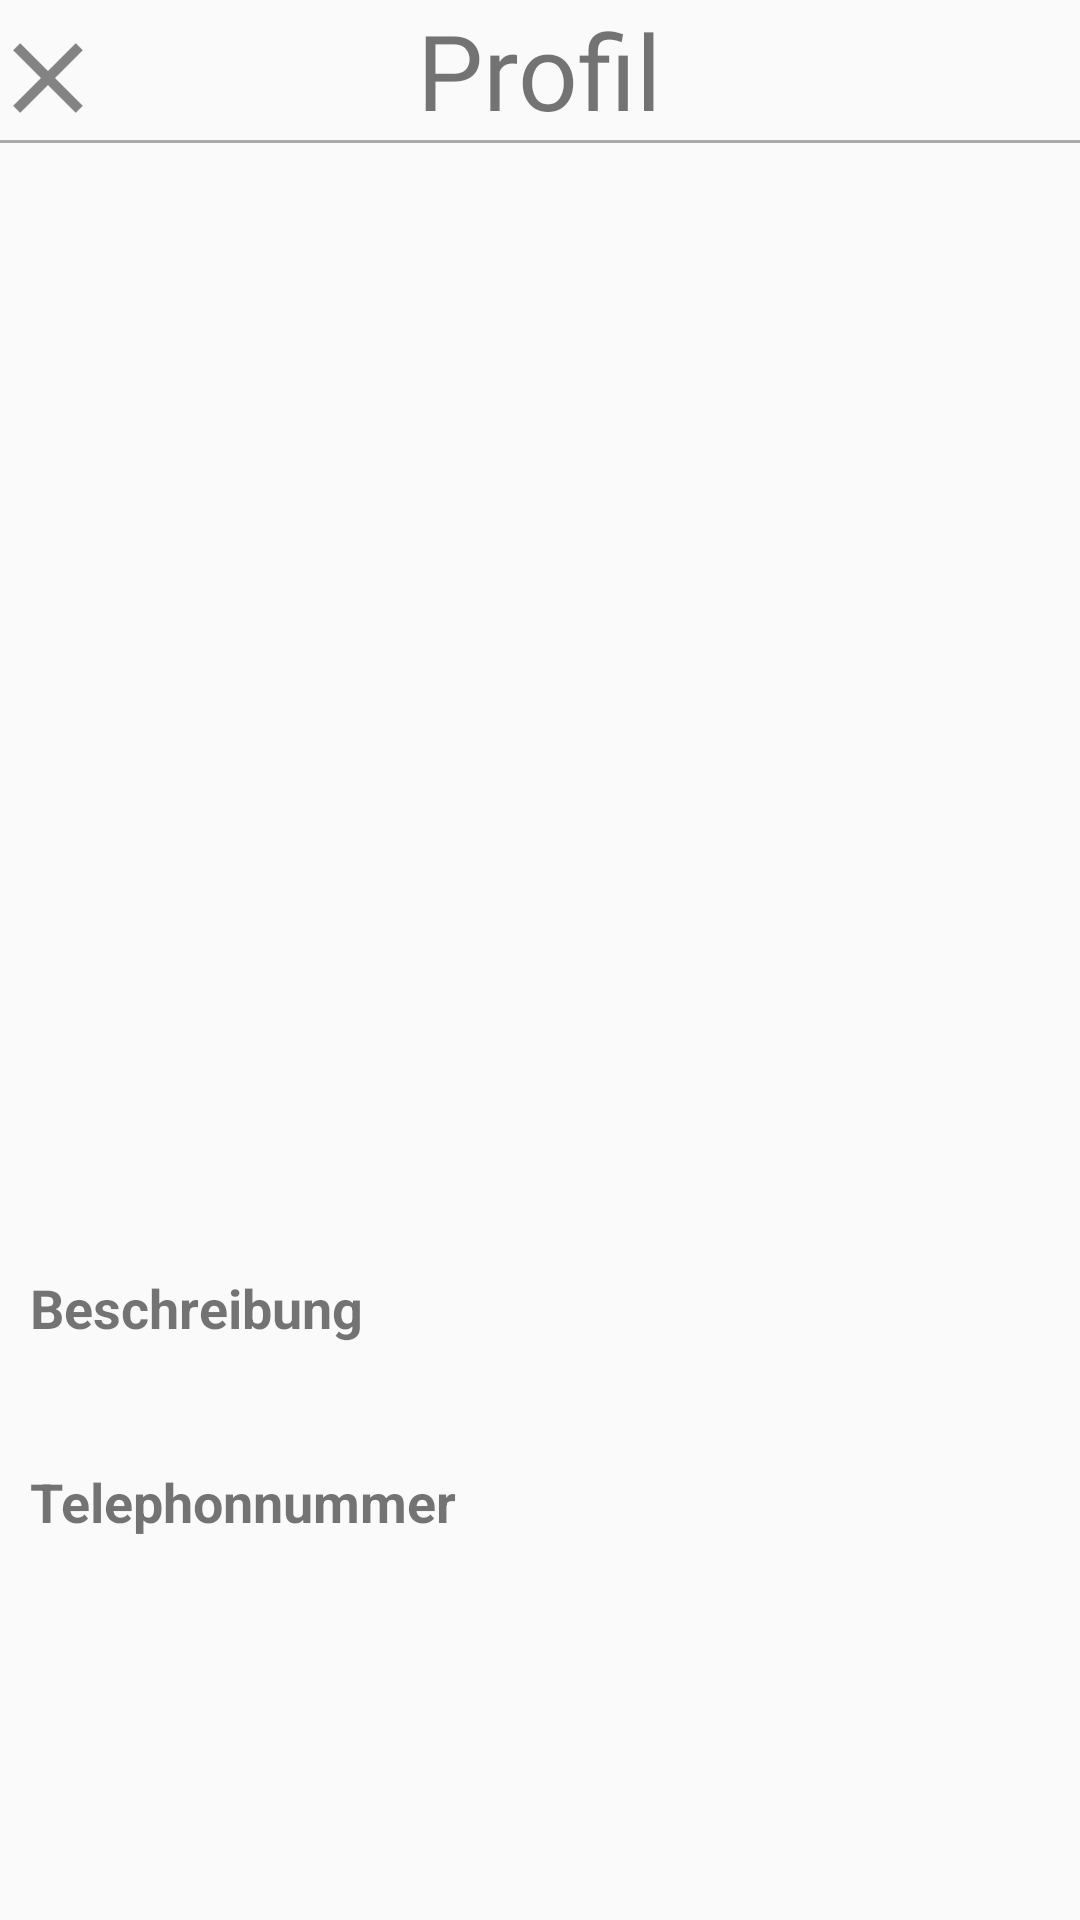

Screen size 1080x1920. Icon name, then its center in pixels as (x=x, y=y):
close: (x=48, y=78)
